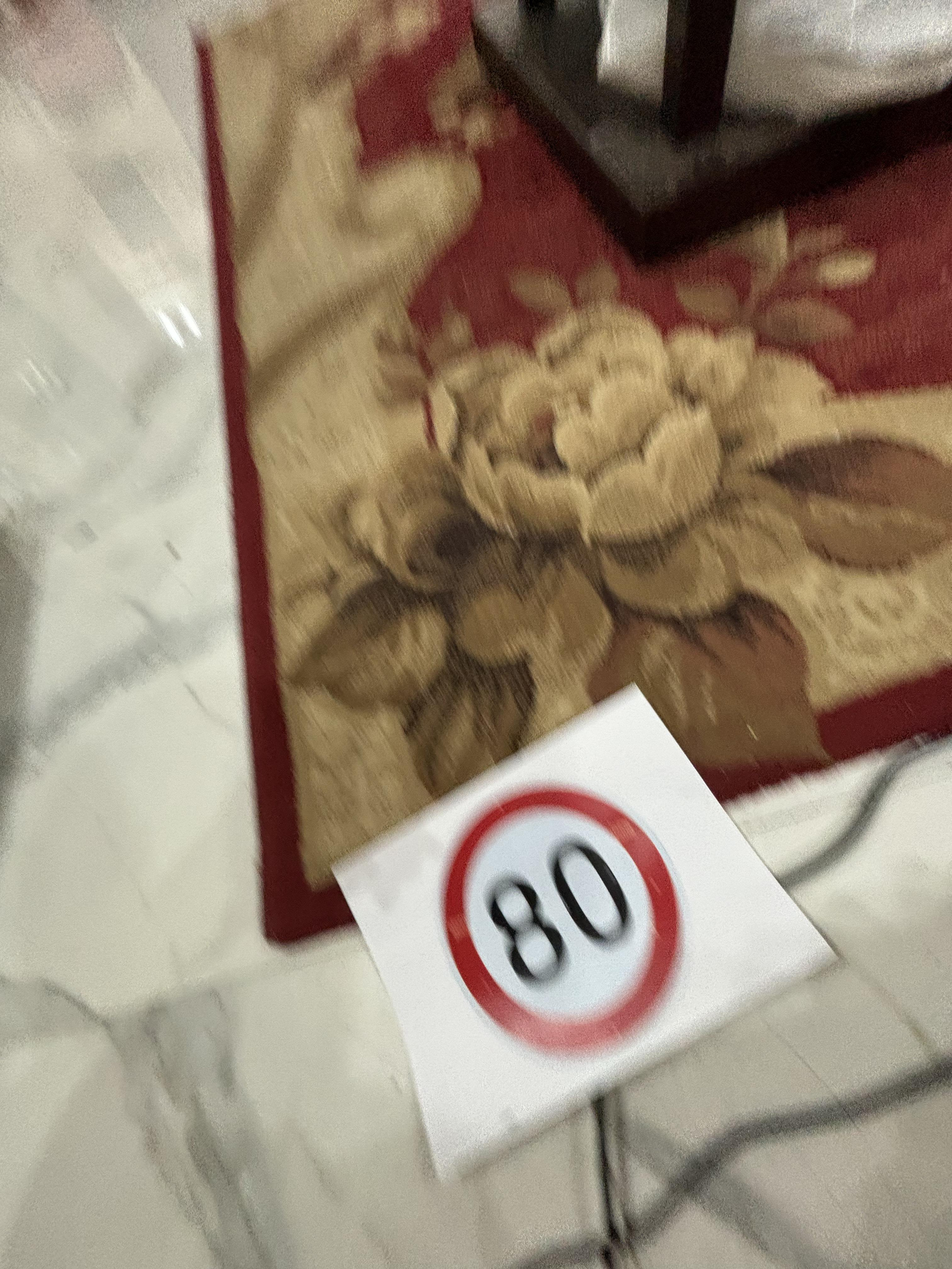80-Speed: (441, 775, 692, 1059)
